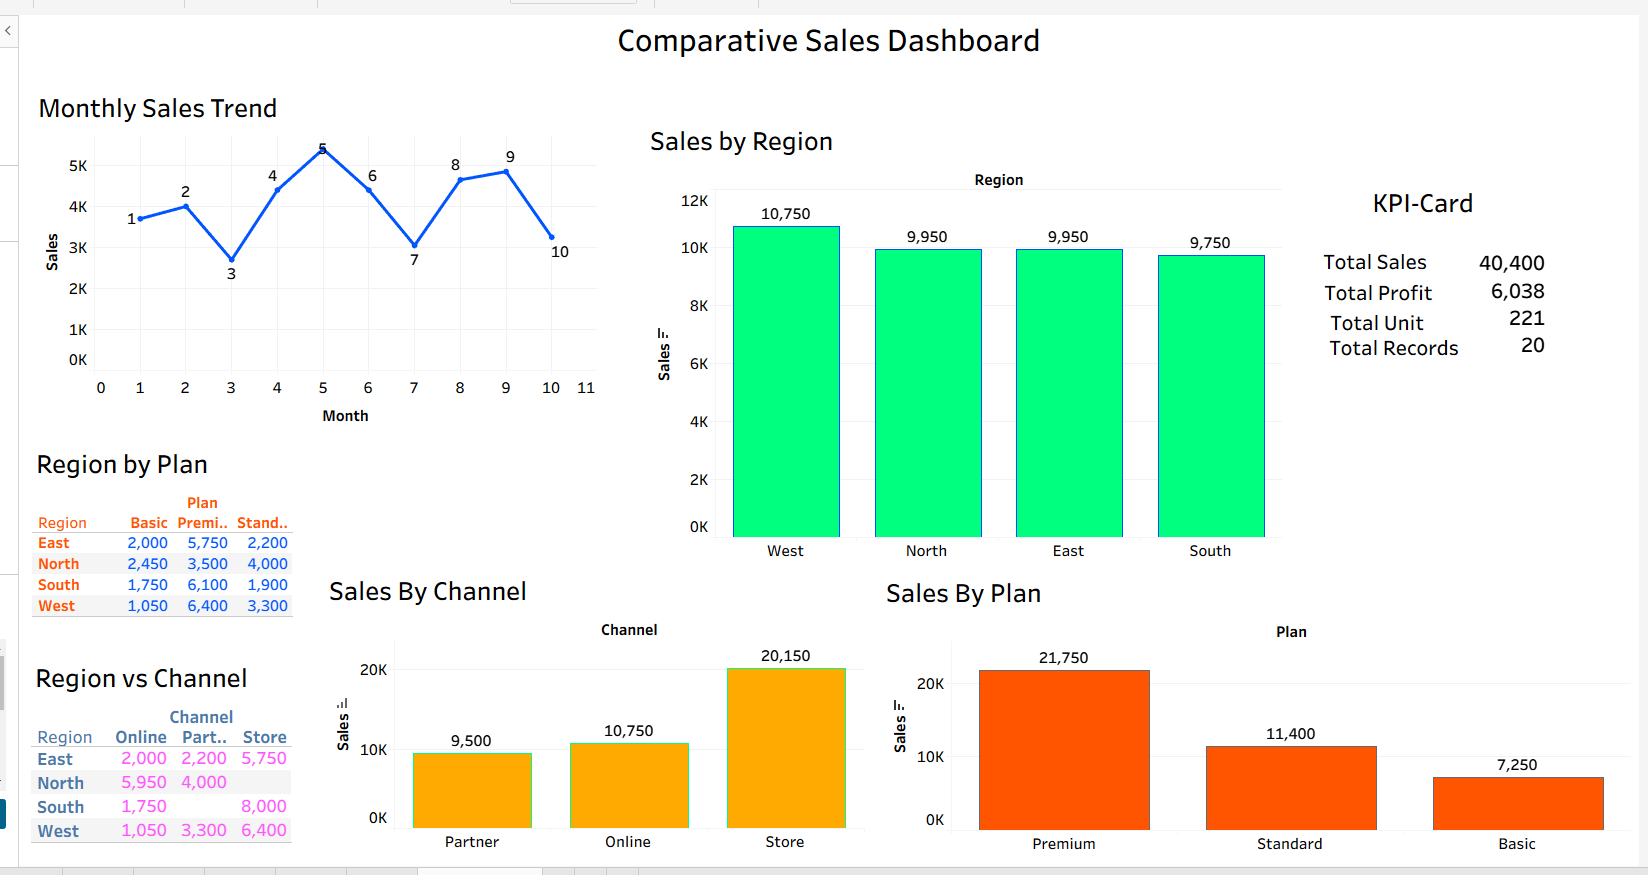

The dashboard page shown, as its layout file describes it:
{"tool":"tableau","page":{"name":"Dashboard 1","canvas":[1620,860],"ordinal":0},"visuals":[{"type":"title","box":[8,8,1604,49]},{"type":"worksheet","title":"Sheet 5","mark":"Automatic","rows":["sales"],"cols":["month"],"box":[15,80,563,347]},{"type":"worksheet","title":"Sheet 2","mark":"Automatic","rows":["sales"],"cols":["region"],"box":[627,113,636,443]},{"type":"text","box":[1350,179,139,35]},{"type":"text","box":[1301,239,126,32]},{"type":"worksheet","title":"Sheet 1","mark":"Automatic","box":[1450,243,147,177]},{"type":"text","box":[1302,271,116,30]},{"type":"text","box":[1308,301,101,30]},{"type":"text","box":[1307,326,137,30]},{"type":"worksheet","title":"Sheet 6","mark":"Automatic","rows":["region"],"cols":["plan"],"box":[13,436,271,189]},{"type":"worksheet","title":"Sheet 4","mark":"Automatic","rows":["sales"],"cols":["channel"],"box":[306,563,540,284]},{"type":"worksheet","title":"Sheet 3","mark":"Automatic","rows":["sales"],"cols":["plan"],"box":[863,565,749,284]},{"type":"worksheet","title":"Sheet 7","mark":"Automatic","rows":["region"],"cols":["channel"],"box":[12,650,293,205]}]}

Visuals, with their boxes in screenshot pixels (x1, y1, x2, y2), scaled from the page's 1620x860 canvas onto the 1648x875 screenshot:
title: box=[8, 8, 1640, 58]
"Sheet 5" worksheet: box=[15, 81, 588, 434]
"Sheet 2" worksheet: box=[638, 115, 1285, 566]
text: box=[1373, 182, 1515, 218]
text: box=[1323, 243, 1452, 276]
"Sheet 1" worksheet: box=[1475, 247, 1625, 427]
text: box=[1325, 276, 1443, 306]
text: box=[1331, 306, 1433, 337]
text: box=[1330, 332, 1469, 362]
"Sheet 6" worksheet: box=[13, 444, 289, 636]
"Sheet 4" worksheet: box=[311, 573, 861, 862]
"Sheet 3" worksheet: box=[878, 575, 1640, 864]
"Sheet 7" worksheet: box=[12, 661, 310, 870]
